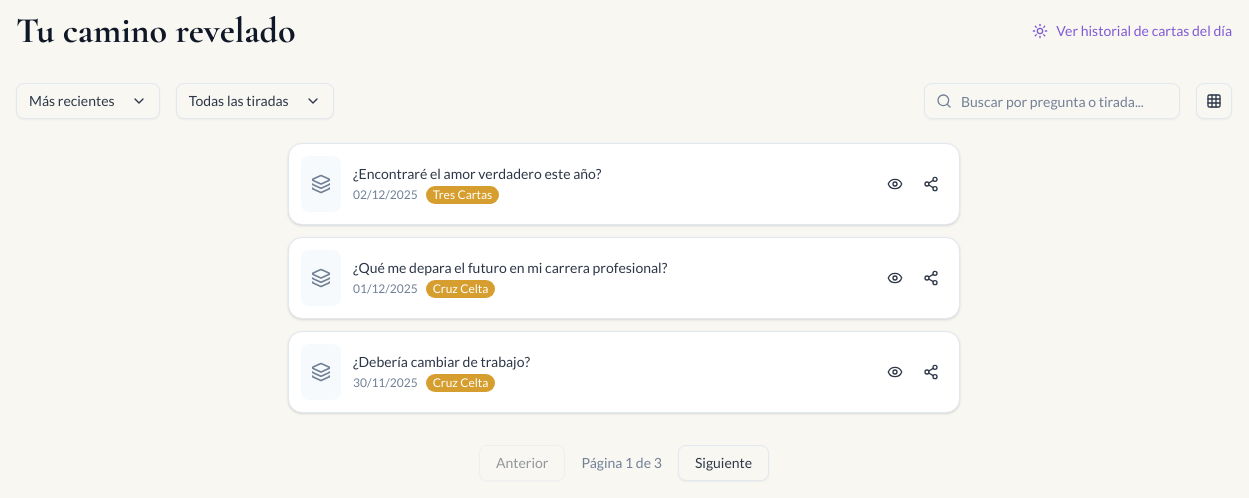
Test: HistorialPage › Search Filter › should show empty results when search matches nothing
This screenshot has width=1249, height=498.
In the field with placeholder "Buscar por pregunta o tirada...": (1052, 101) left=924, top=83, right=1180, bottom=119, type "xyznonexistent"
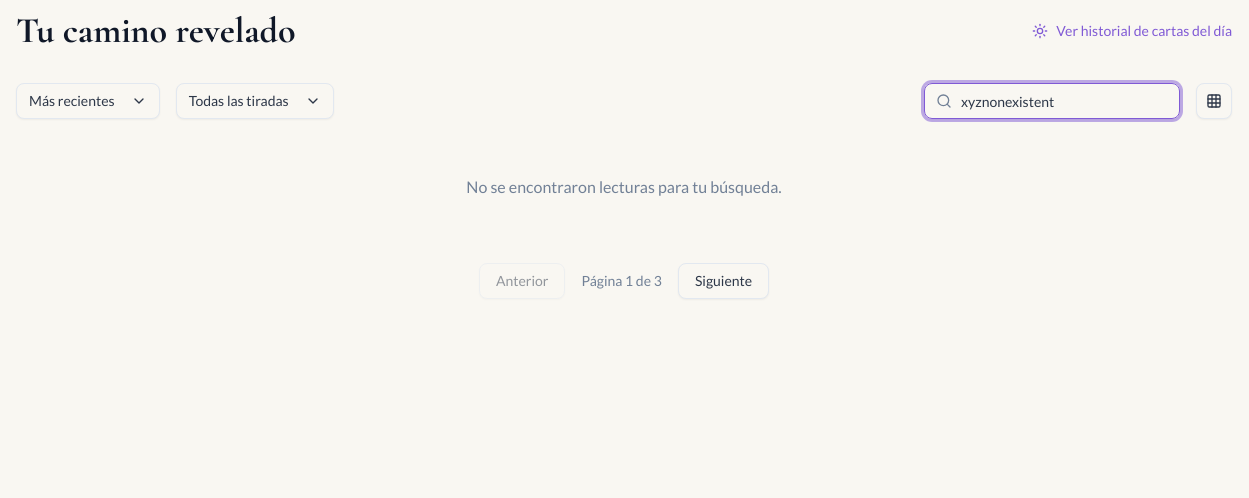
expect the text "No se encontraron lecturas para tu búsqueda." is shown: met, box left=466, top=177, right=782, bottom=196
